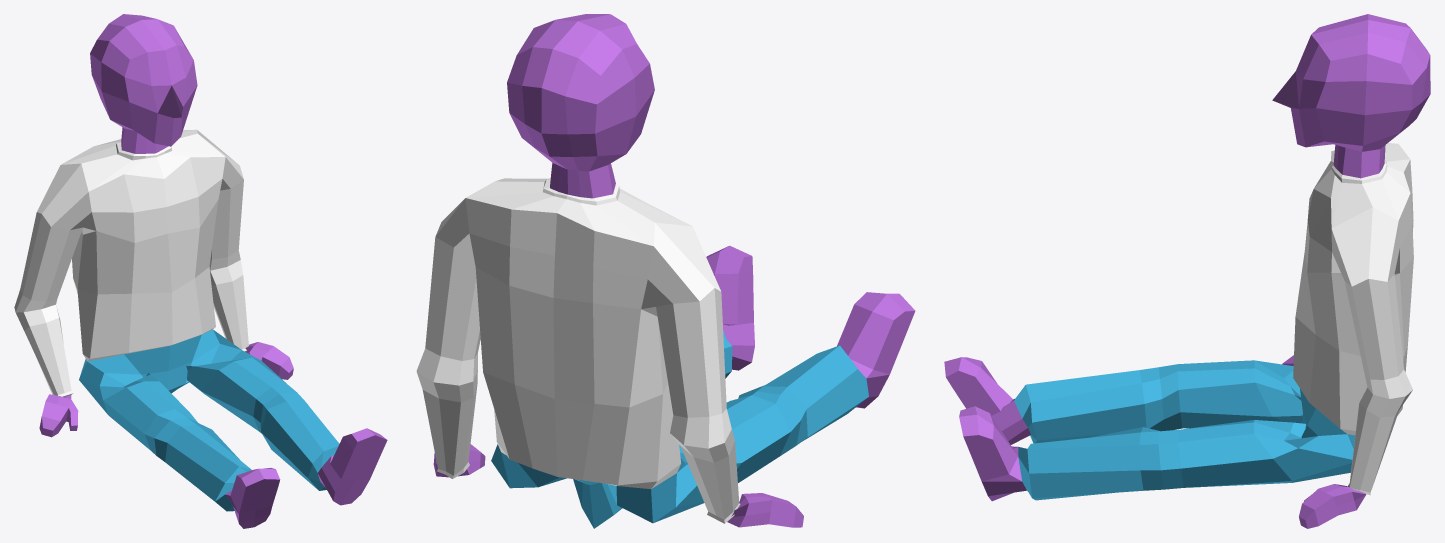
Rendered from Spreadward_Plush.fbx.
3 renders of one model, left to right at view 1: azimuth 30°, elevation 25°; view 2: azimuth 150°, elevation 25°; view 3: azimuth 270°, elevation 25°, orthographic. The views are drawn at different scales.
Parts seen in each view (by area): view 1: Cube; view 2: Cube; view 3: Cube.
Part boxes in pixels (x1,y1,x2,y2): Cube: (14,14,387,528); Cube: (416,14,915,528); Cube: (944,14,1430,528).
Bounding box in the file's own units: 79.19 × 113 × 109.
